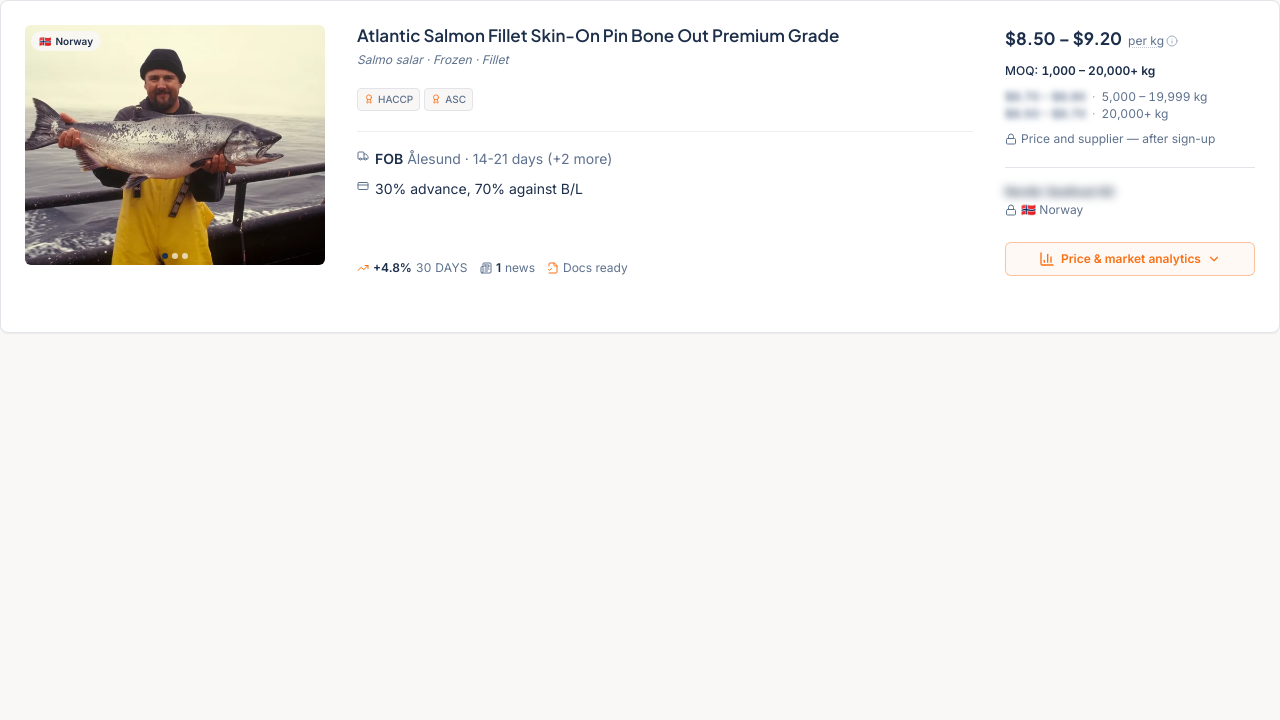
Test: CatalogOfferRow · «Аналитика» — клавиатурное управление › Esc внутри открытого региона панели — закрывает панель и возвращает фокус на кнопку
Click the button with test id "catalog-row-analytics-toggle".
click(1130, 259)  # box [1005, 242, 1255, 276]
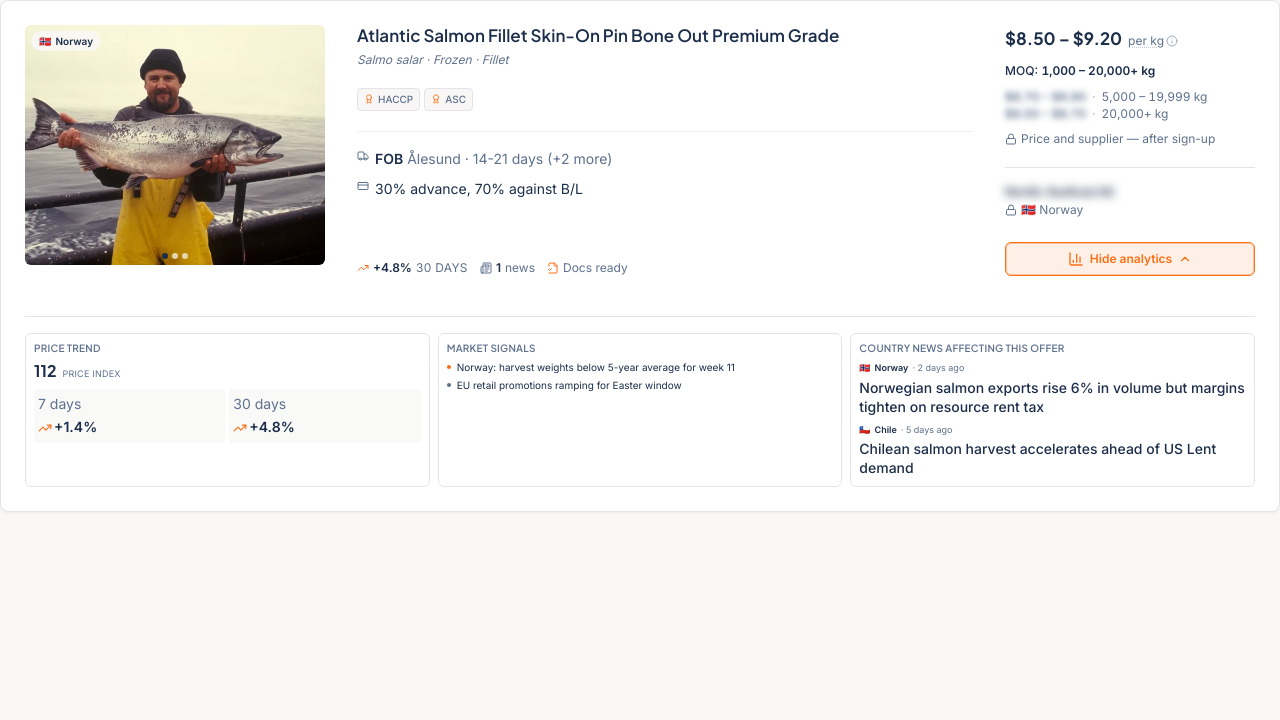
Check: the button with test id "catalog-row-analytics-toggle" is expanded, box [1005, 242, 1255, 276]
Press Escape in the element with test id "catalog-row-analytics-panel-inner", box [25, 316, 1255, 487]
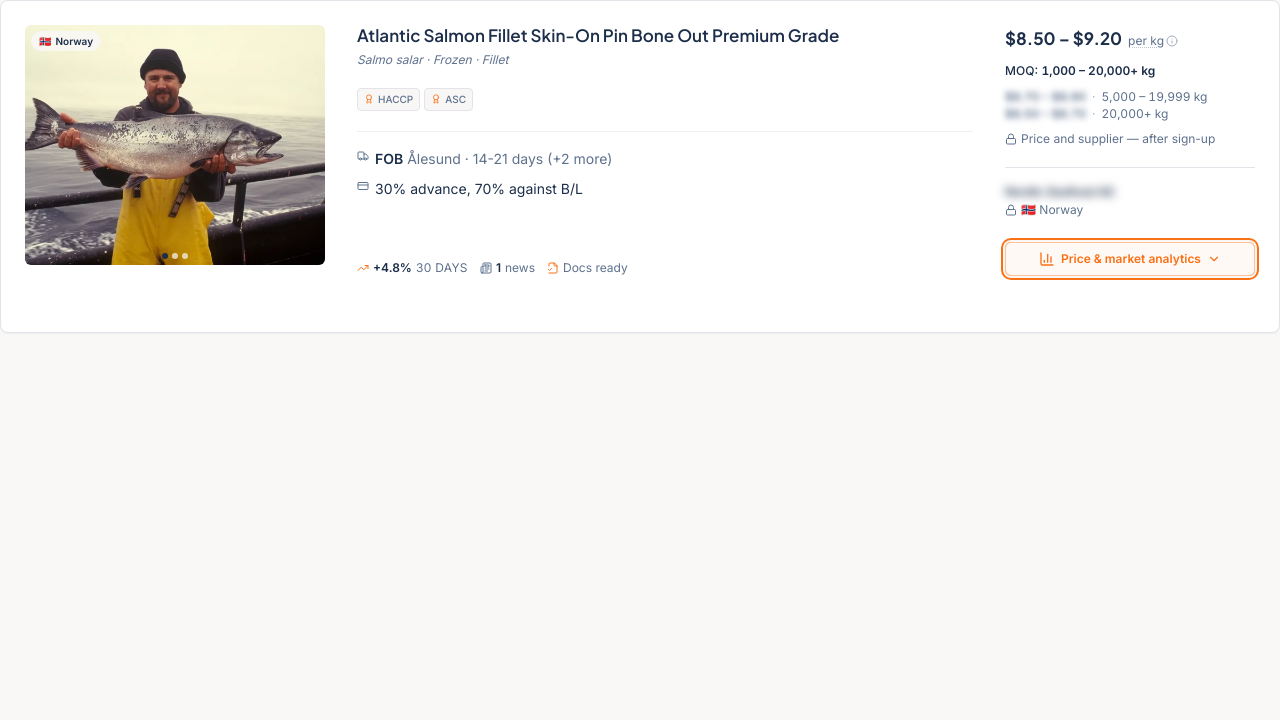
Check: the button with test id "catalog-row-analytics-toggle" is collapsed, box [1005, 242, 1255, 276]
